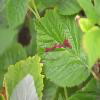Raspberry leaf: (33, 7, 93, 89)
